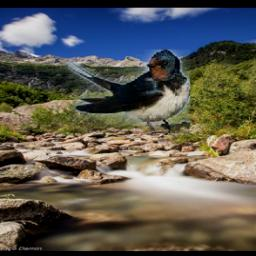Swallow: (54, 49, 191, 135)
